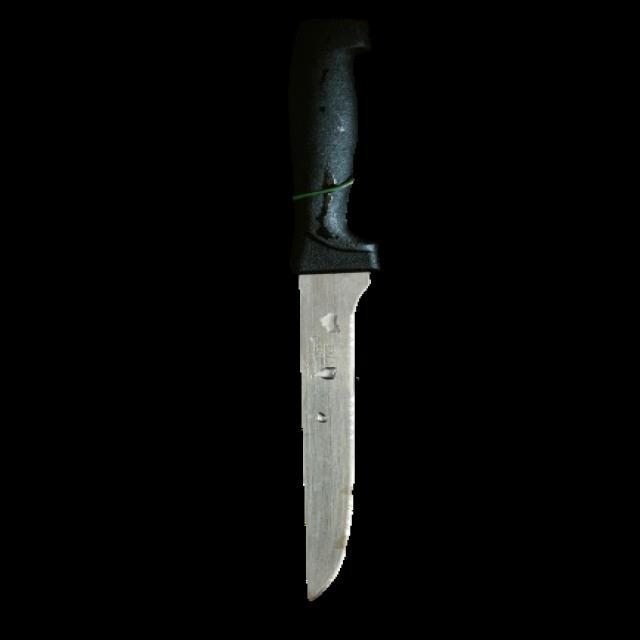knife: (287, 3, 391, 615)
